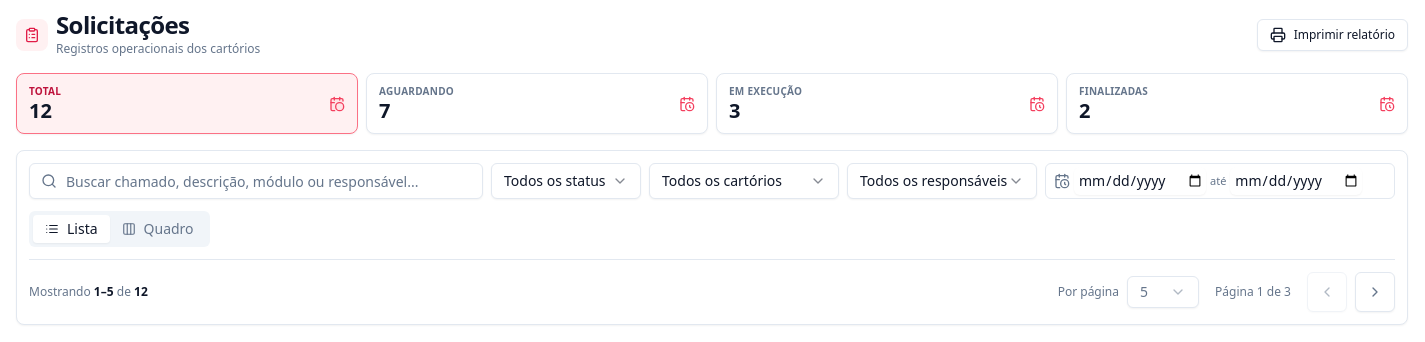
it: CS/CX — ações por permissão › pagina a lista de solicitações em blocos compactos
expect the element named "Mostrando 1 a 5 de 12 solicitações" is shown: met, box left=29, top=284, right=148, bottom=300
Click the button named "próxima página".
click(1375, 292)  # box left=1355, top=272, right=1395, bottom=312
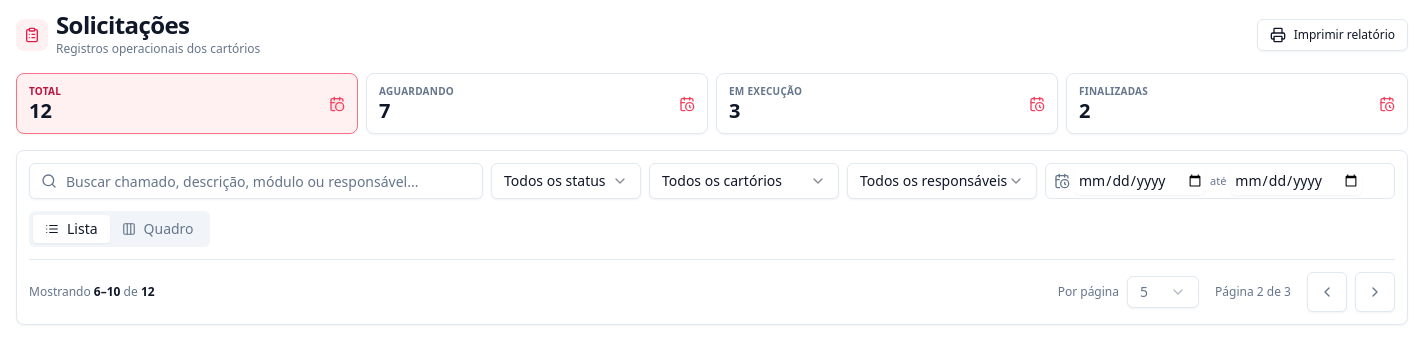
expect the element named "Mostrando 6 a 10 de 12 solicitações" is shown: met, box left=29, top=284, right=155, bottom=300
